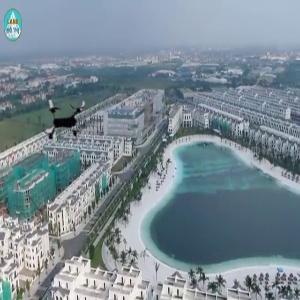drone: (36, 90, 93, 147)
